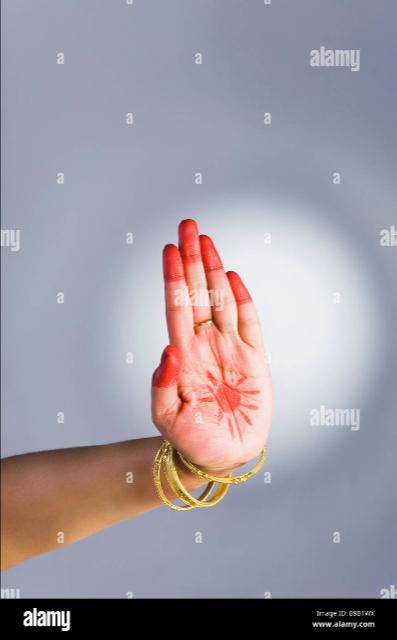pataka: (151, 220, 273, 473)
